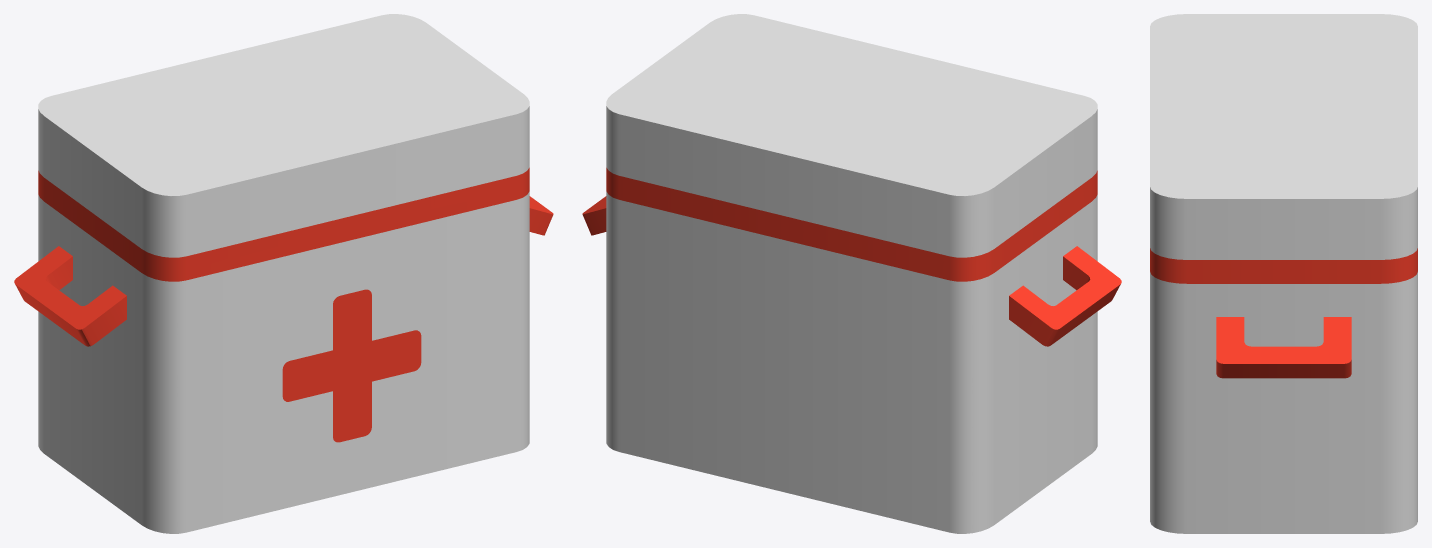
File: Box White Medical.fbx
The picture shows the model from 3 angles, left to right: view 1: azimuth 30°, elevation 25°; view 2: azimuth 150°, elevation 25°; view 3: azimuth 270°, elevation 25°; orthographic projection.
Parts seen in each view (by area): view 1: Box White Medical, Box Cap White Medical; view 2: Box White Medical, Box Cap White Medical; view 3: Box White Medical, Box Cap White Medical.
Boxes of the visible parts, left/top/right/bottom form: Box White Medical: left=14, top=180, right=553, bottom=533; Box Cap White Medical: left=38, top=14, right=529, bottom=270; Box White Medical: left=582, top=180, right=1121, bottom=533; Box Cap White Medical: left=606, top=14, right=1097, bottom=270; Box White Medical: left=1150, top=261, right=1417, bottom=533; Box Cap White Medical: left=1150, top=14, right=1417, bottom=272.
Bounding box in the file's own units: 169 × 114 × 82.92.
